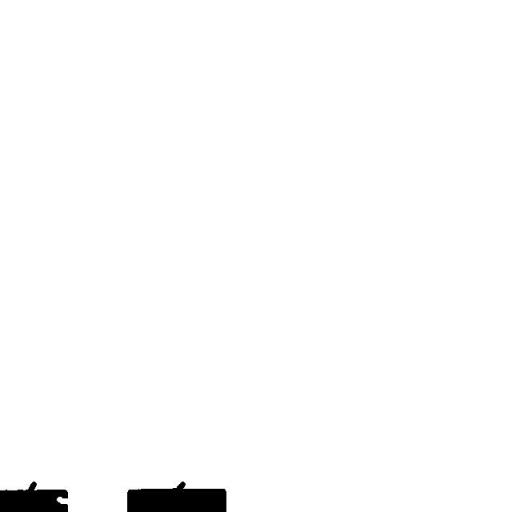mousebite: (49, 489, 78, 511)
spur: (163, 474, 193, 500), (19, 474, 44, 502)
